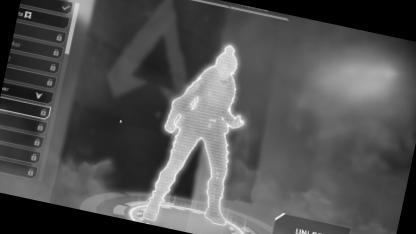Target: (152, 27, 264, 194)
